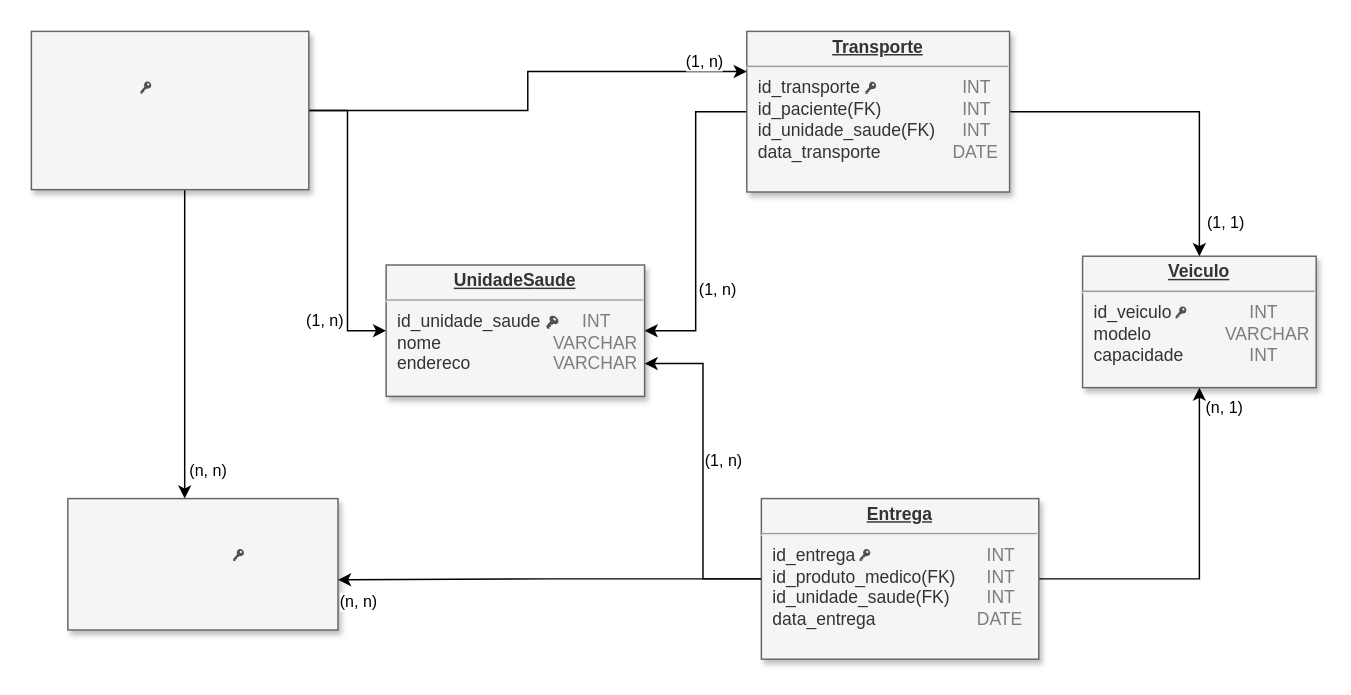
Image size: 1351x695. Some labels were removed from this diagram. Each missing label, with the centre of its shape:
"Paciente id_paciente INT nome VARCHAR endereco VARCHAR id_unidade_saude(FK) INT" belongs at (x=171, y=112).
"ProdutoMedico id_produto_medico INT nome VARCHAR quantidade_estoque INT" belongs at (x=204, y=565).
